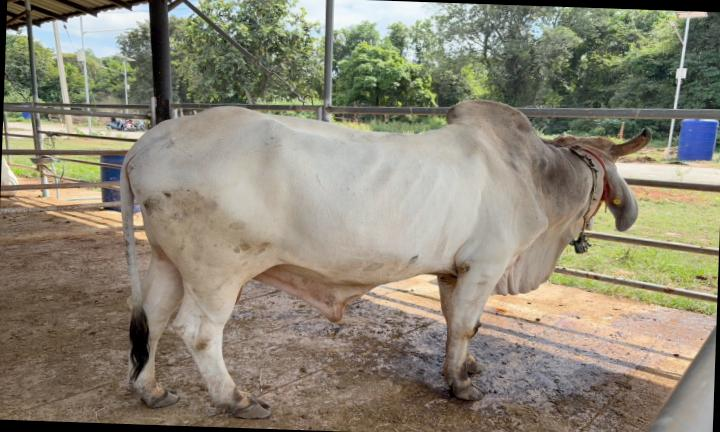Brahman: (121, 101, 650, 417)
